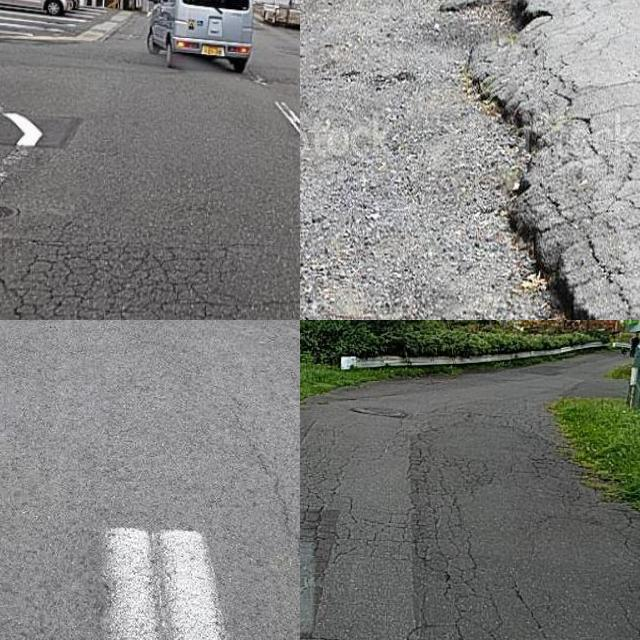Pinggir: (419, 0, 640, 320)
Retak Buaya: (401, 442, 512, 640), (0, 236, 234, 320)
